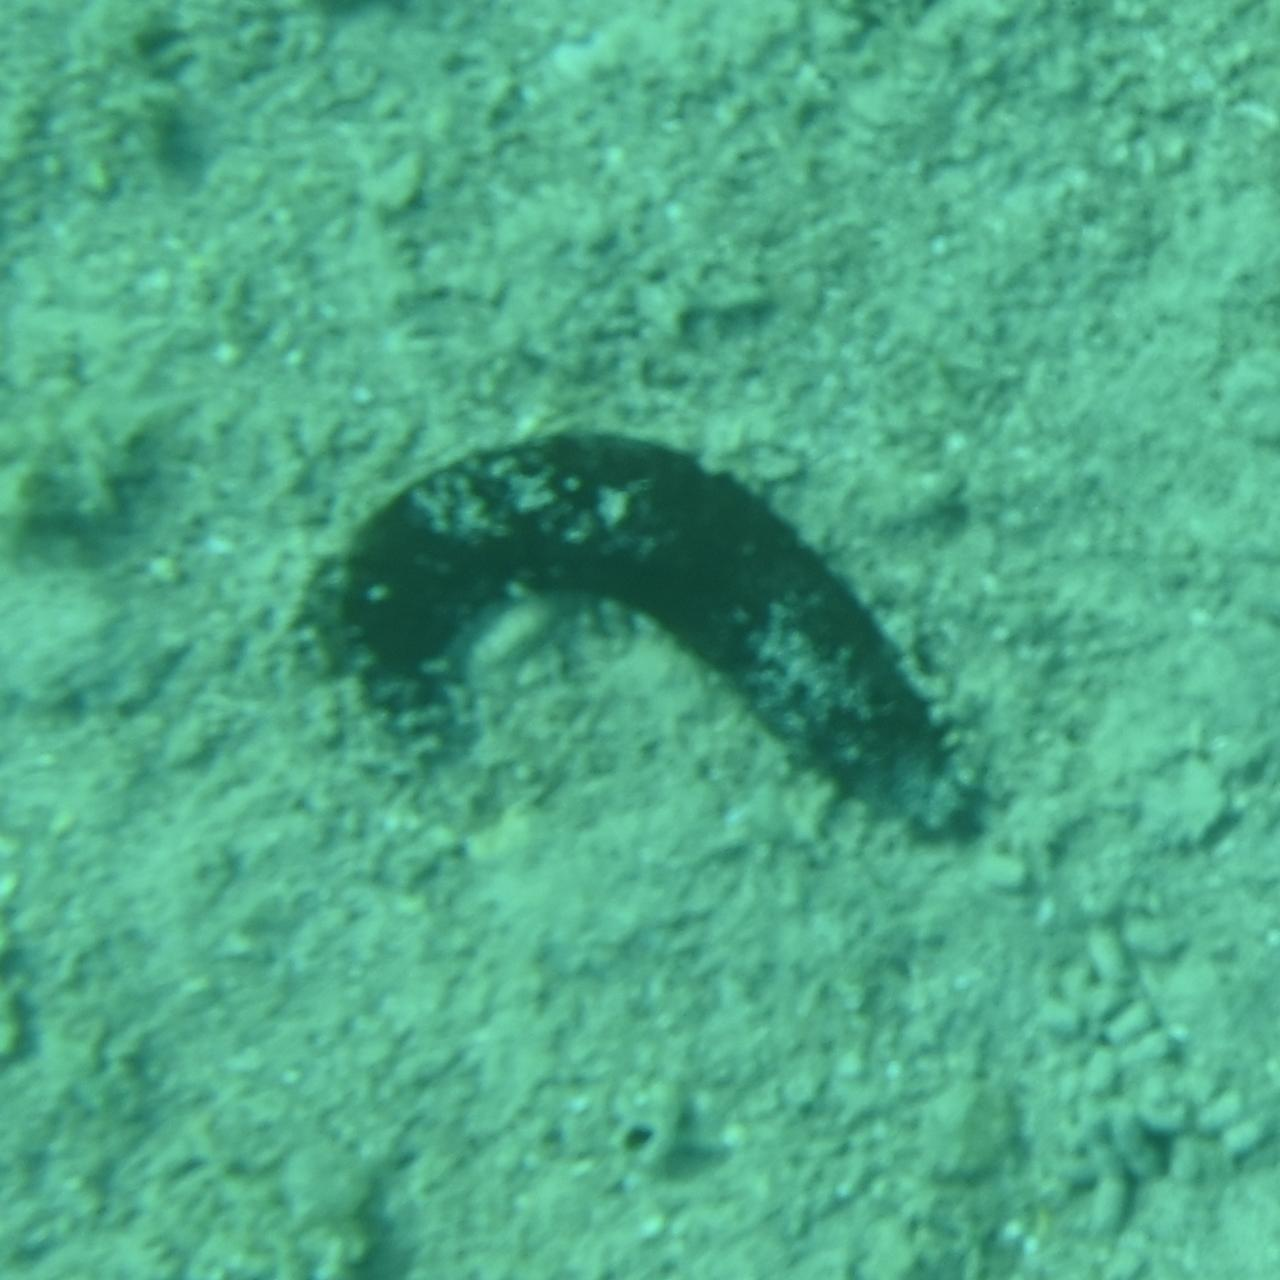Holothuria tubulosa: (279, 416, 1001, 864)
